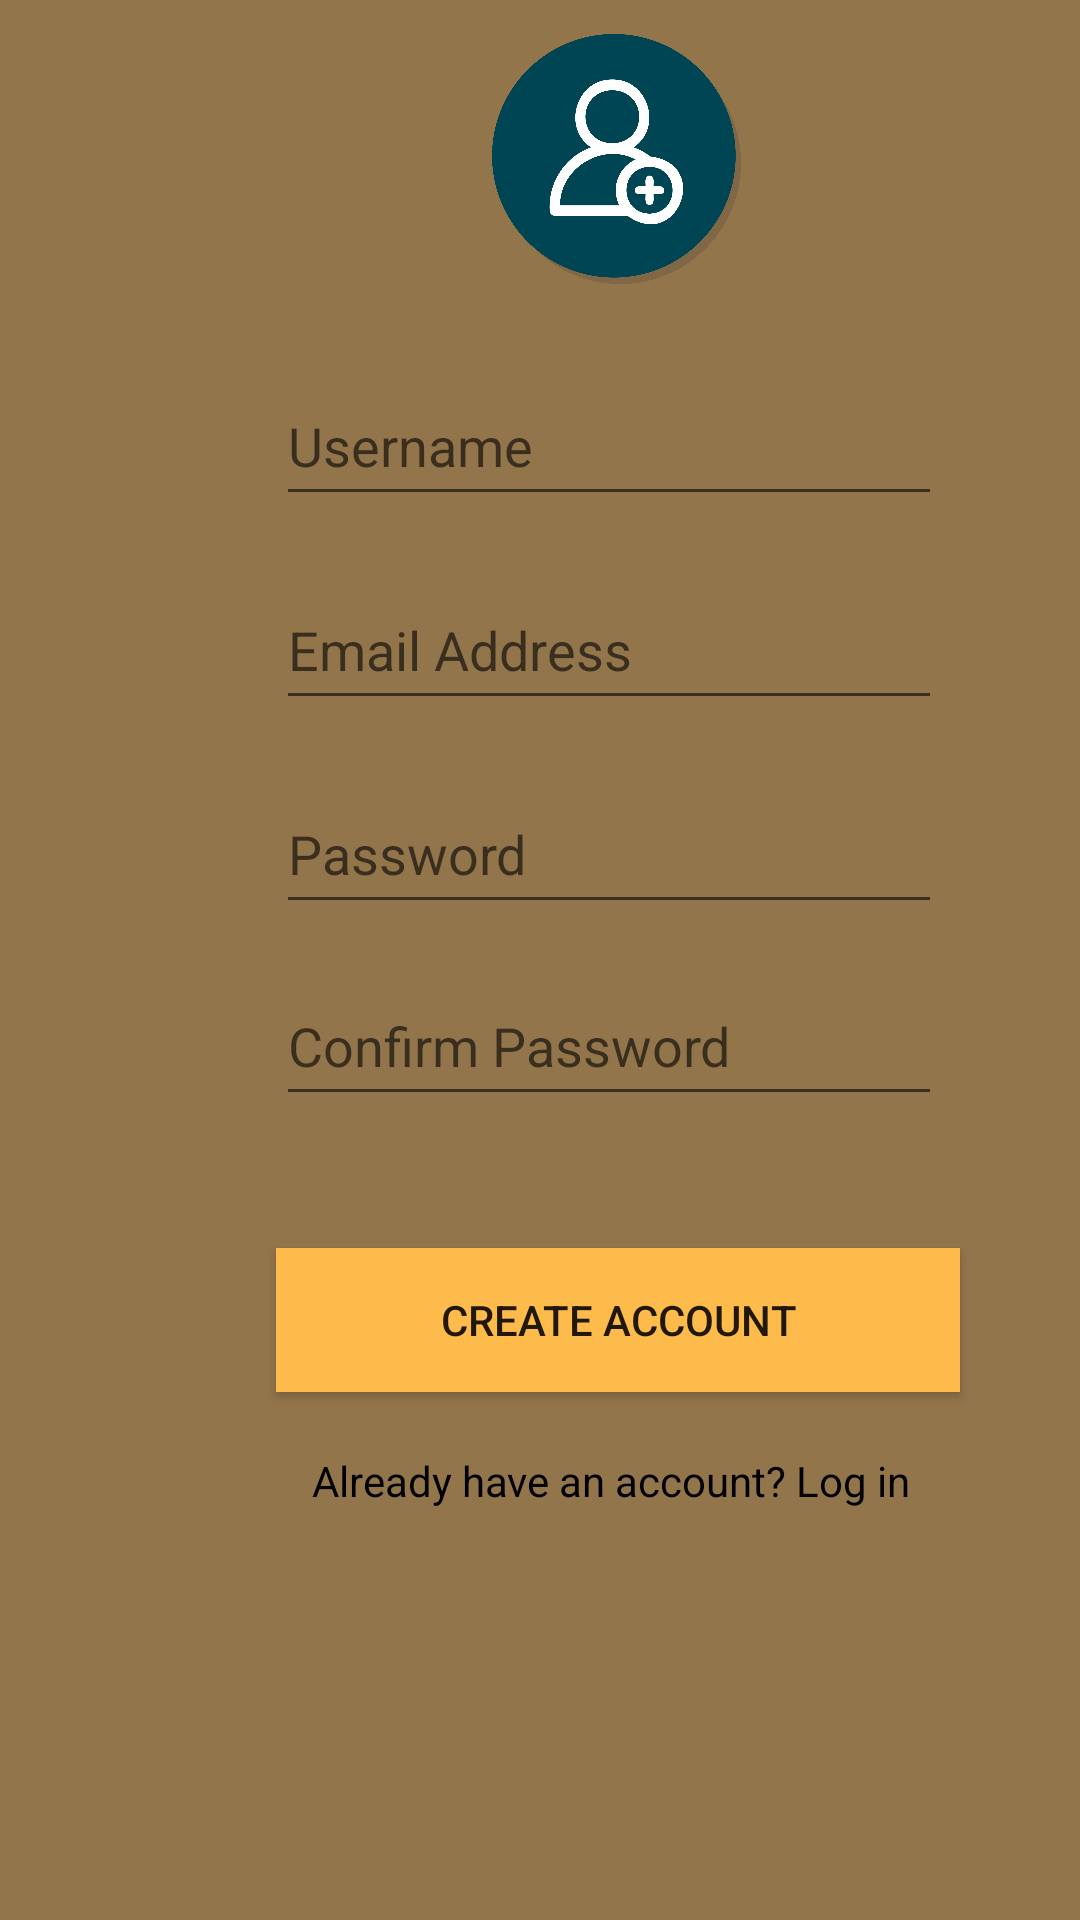

Where to tap for icons on this 1080w x 1920h app screen, as (x,y):
profilepic: (614,156)
